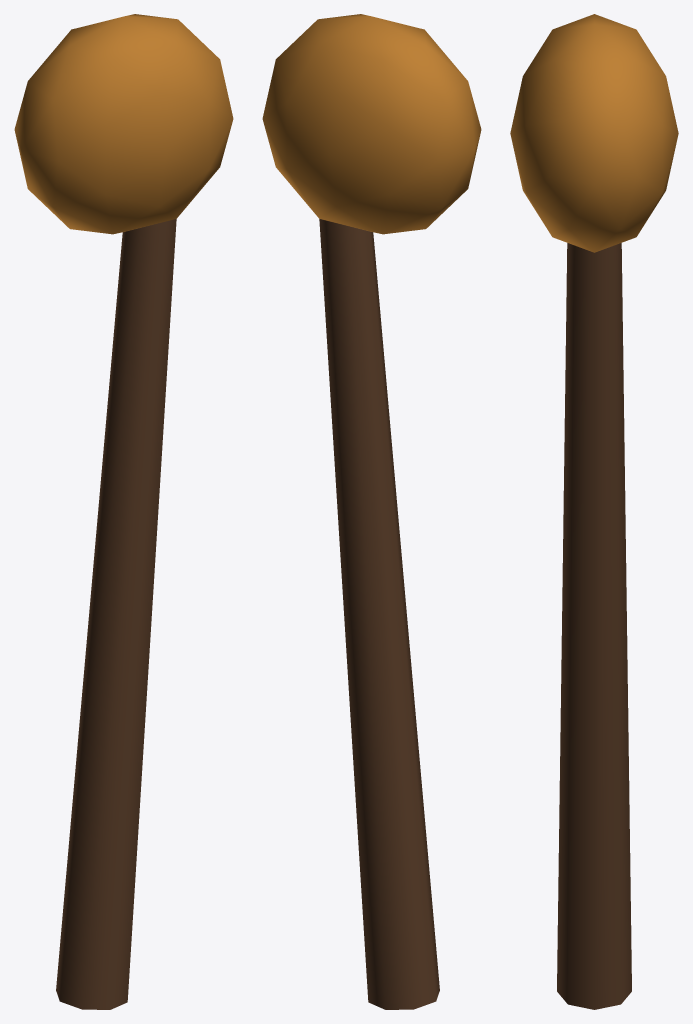
Rendered from wpn_r_02.glb.
3 views of the same model, side by side, from view 1: azimuth 30°, elevation 25°; view 2: azimuth 150°, elevation 25°; view 3: azimuth 270°, elevation 25° (orthographic).
Visible parts, largest first — view 1: shaft, head; view 2: shaft, head; view 3: shaft, head.
Boxes of the visible parts, x1=… form: shaft: x1=56, y1=219, x2=176, y2=1009; head: x1=14, y1=14, x2=233, y2=234; shaft: x1=319, y1=219, x2=439, y2=1009; head: x1=262, y1=14, x2=481, y2=234; shaft: x1=557, y1=243, x2=631, y2=1009; head: x1=510, y1=14, x2=678, y2=252.
Bounding box in the file's own units: 0.32 × 1.45 × 0.224.
